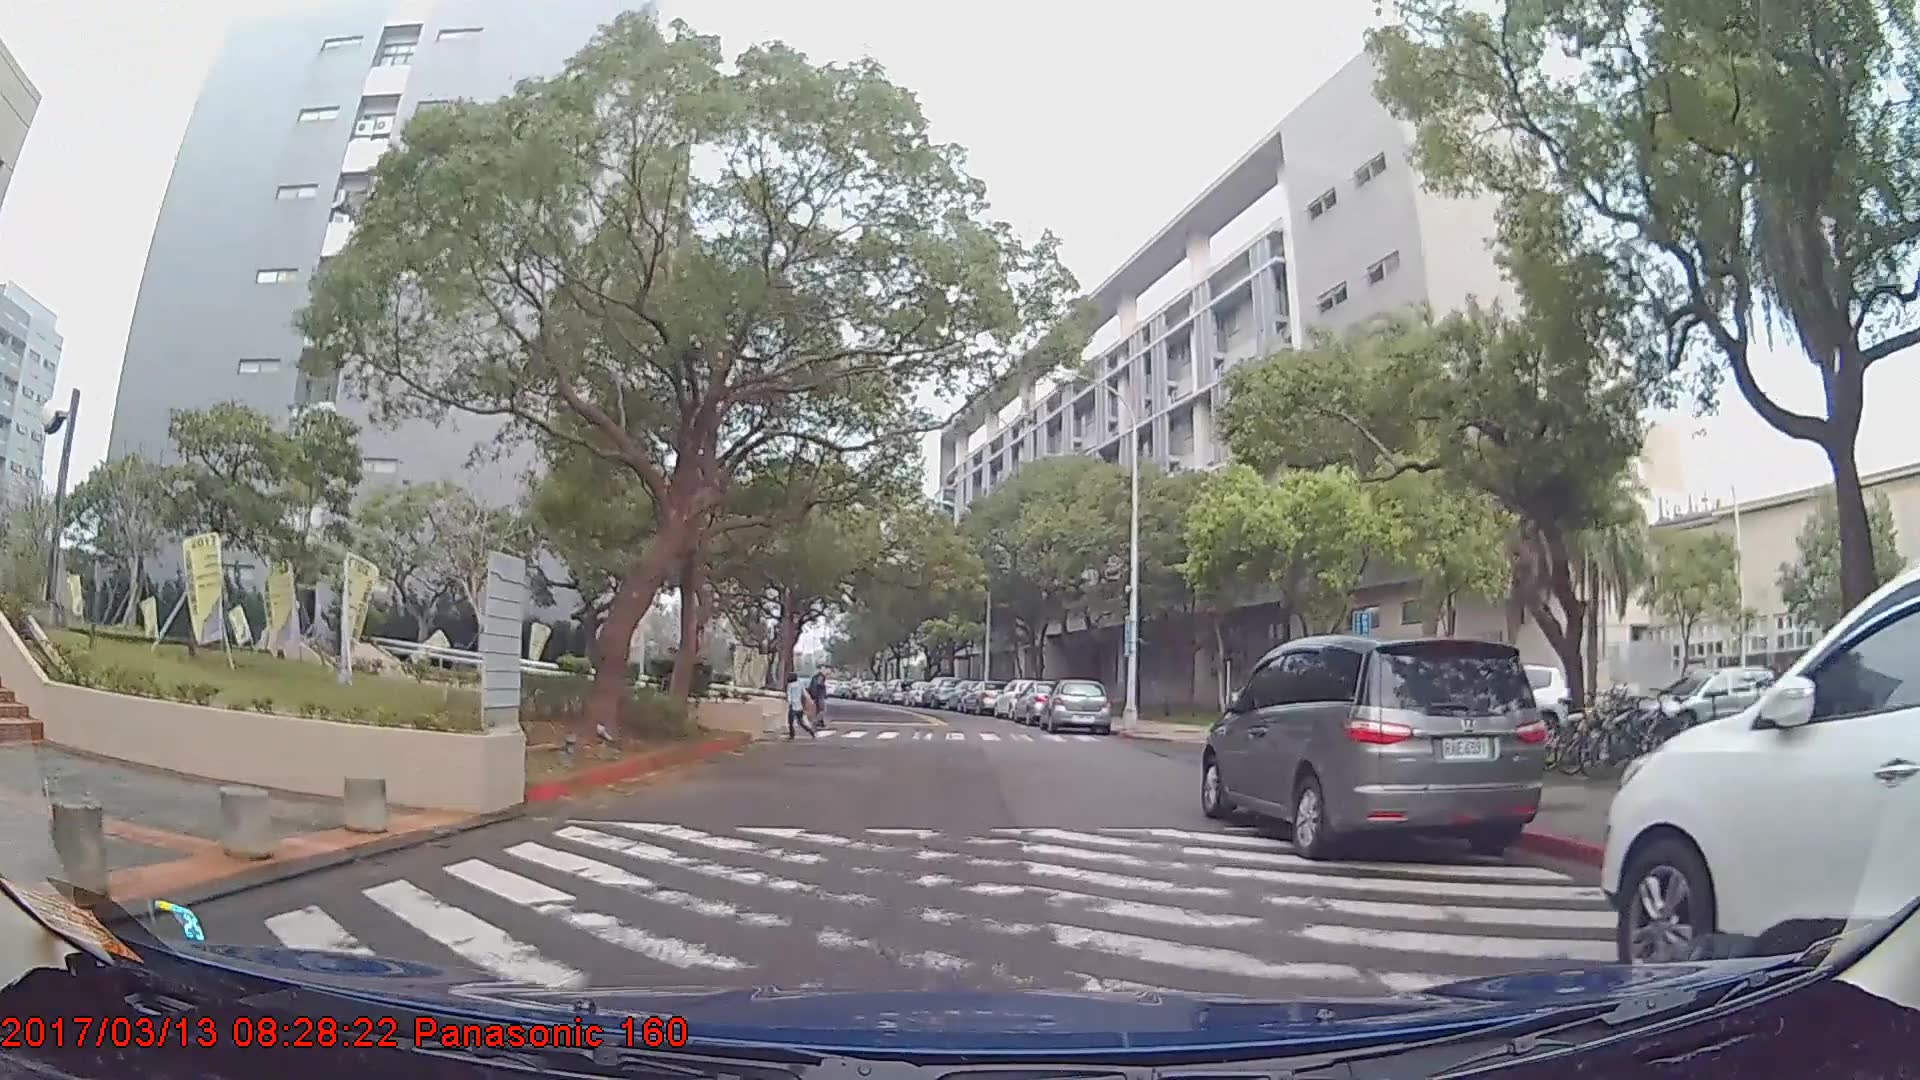pedestrian: (786, 674, 815, 743), (809, 661, 835, 732)
vehicle: (1597, 560, 1920, 988), (1203, 633, 1550, 865), (1655, 666, 1791, 744), (1045, 678, 1112, 735), (921, 676, 962, 710), (964, 682, 1005, 714)
